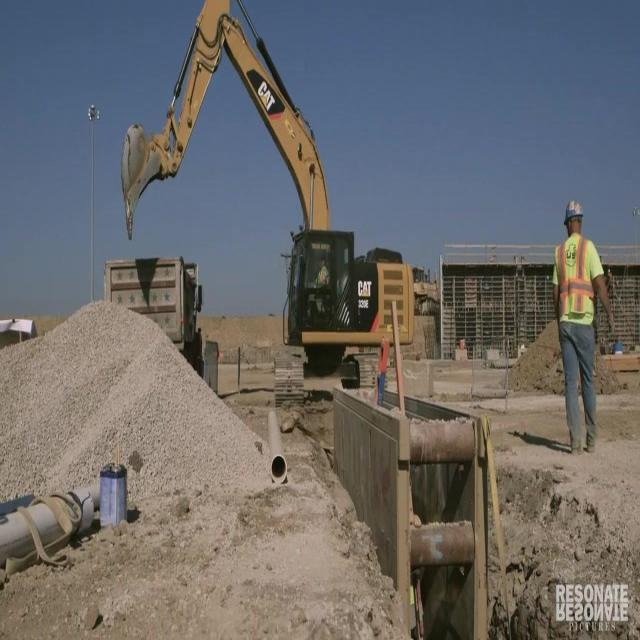Vest: (554, 235, 598, 322)
